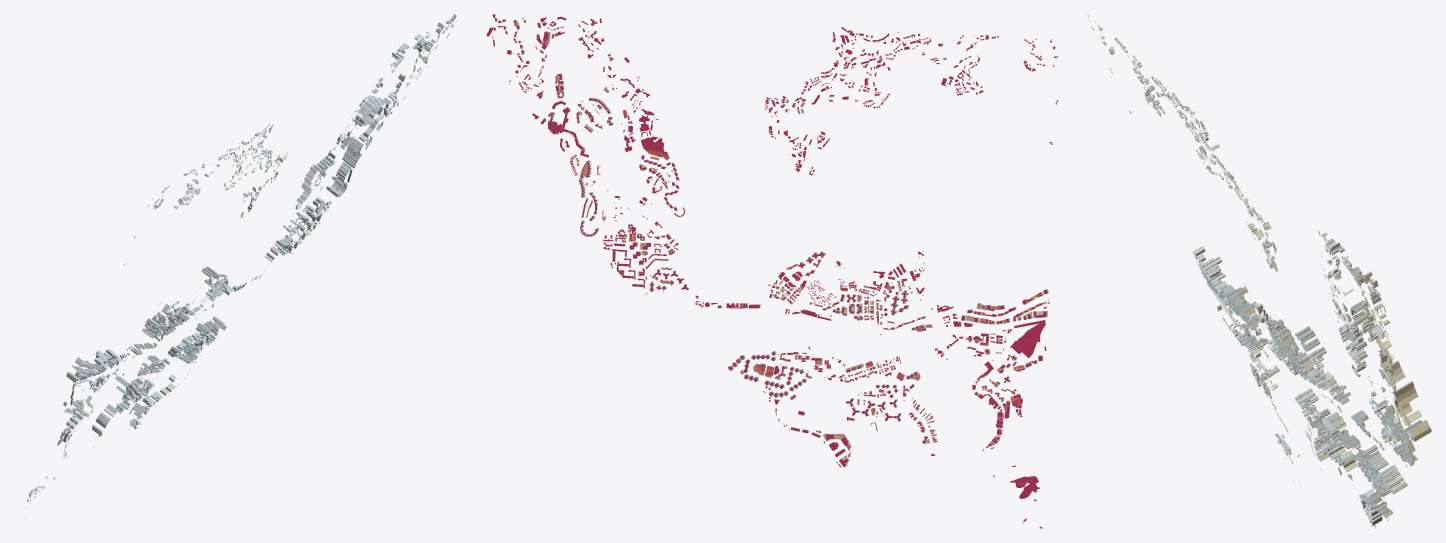
The picture shows the model from 3 angles, left to right: view 1: azimuth 30°, elevation 25°; view 2: azimuth 150°, elevation 25°; view 3: azimuth 270°, elevation 25°; orthographic projection. The views are drawn at different scales.
Visible parts, largest first — view 1: geometry_0; view 2: geometry_0; view 3: geometry_0.
Part boxes in pixels (x1,y1,x2,y2): geometry_0: [14, 14, 456, 528]; geometry_0: [486, 14, 1058, 528]; geometry_0: [1087, 14, 1431, 528].
Bounding box in the file's own units: 4872 × 3716 × 2252.
